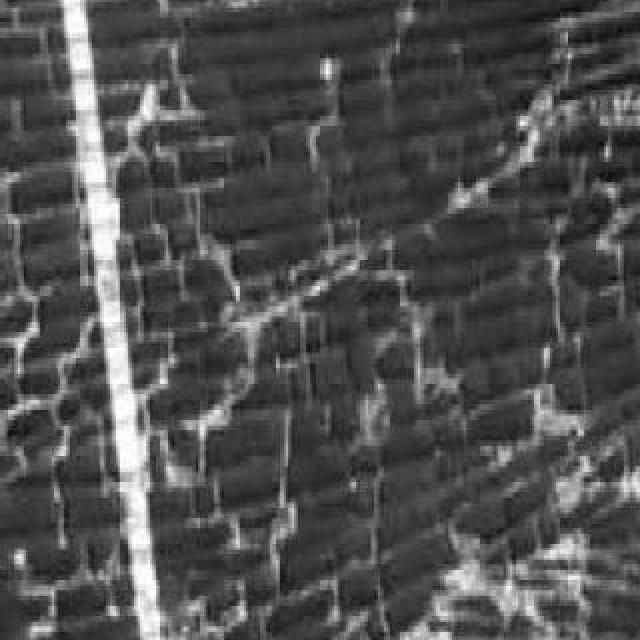Physical-damage: (6, 4, 640, 640)
